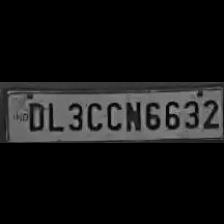2: (200, 96, 218, 128)
3: (64, 97, 84, 130), (181, 96, 199, 128)
6: (142, 96, 160, 130), (162, 96, 180, 130)
C: (104, 96, 122, 130), (84, 98, 102, 130)
D: (23, 97, 45, 130)
L: (44, 98, 61, 132)
N: (123, 97, 141, 131)
